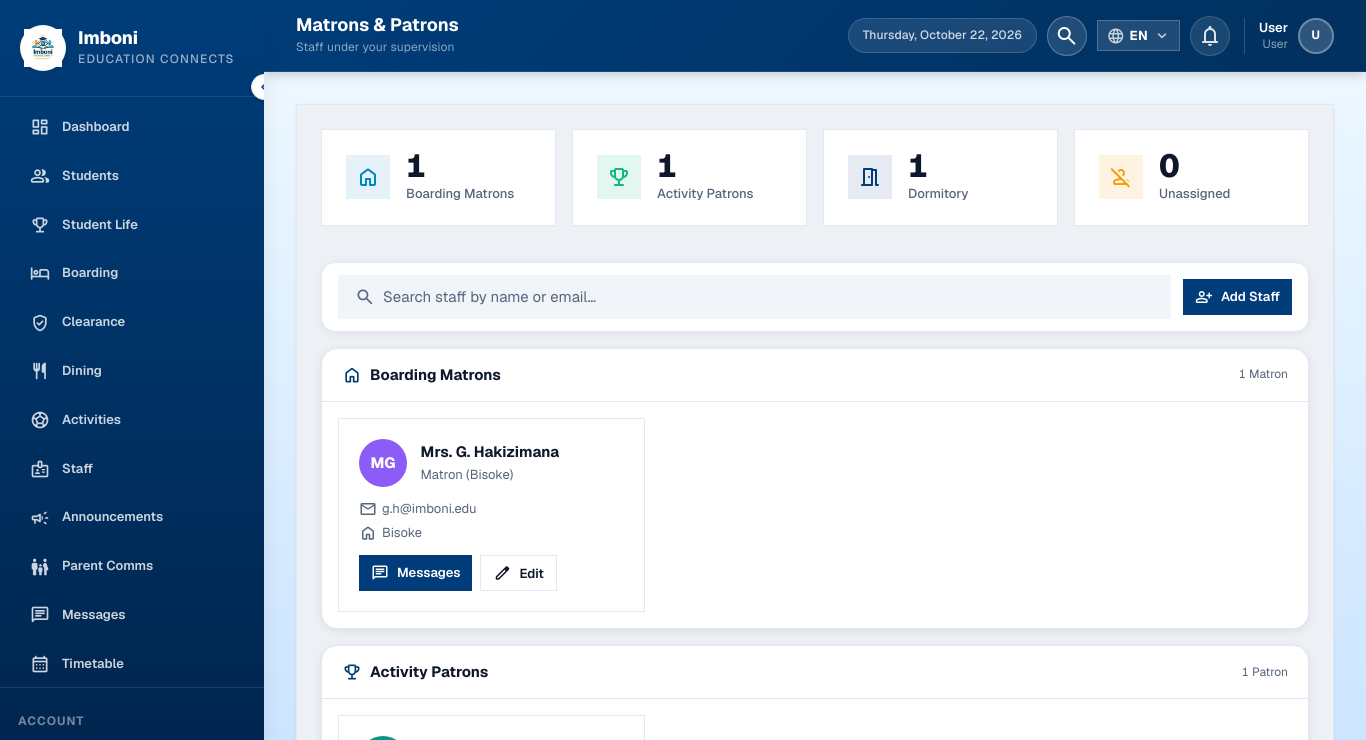
Test: DisStaff › offers to clear the search, not to hire, when a search matches nobody
Check: the text "Mrs. G. Hakizimana" is shown, box [421,440,559,464]
Type "zzz" into the search field with placeholder "Search staff by name or email…". click: [768, 297]
box: [383,276,1154,318]
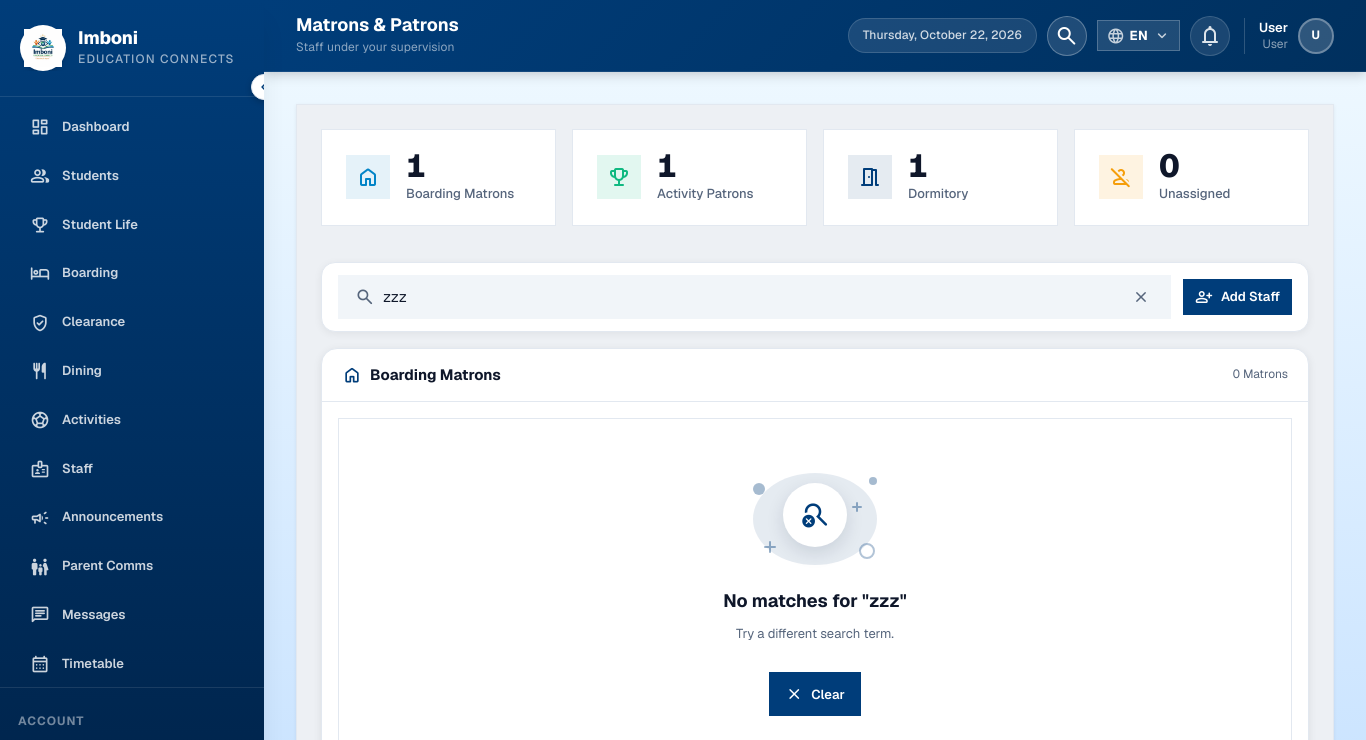
Check: the text "No matches for \"zzz\"" is shown 2 times
Check: the text "Add a matron" is gone
Click the button "Clear". click: [815, 694]
box: [769,672,861,716]
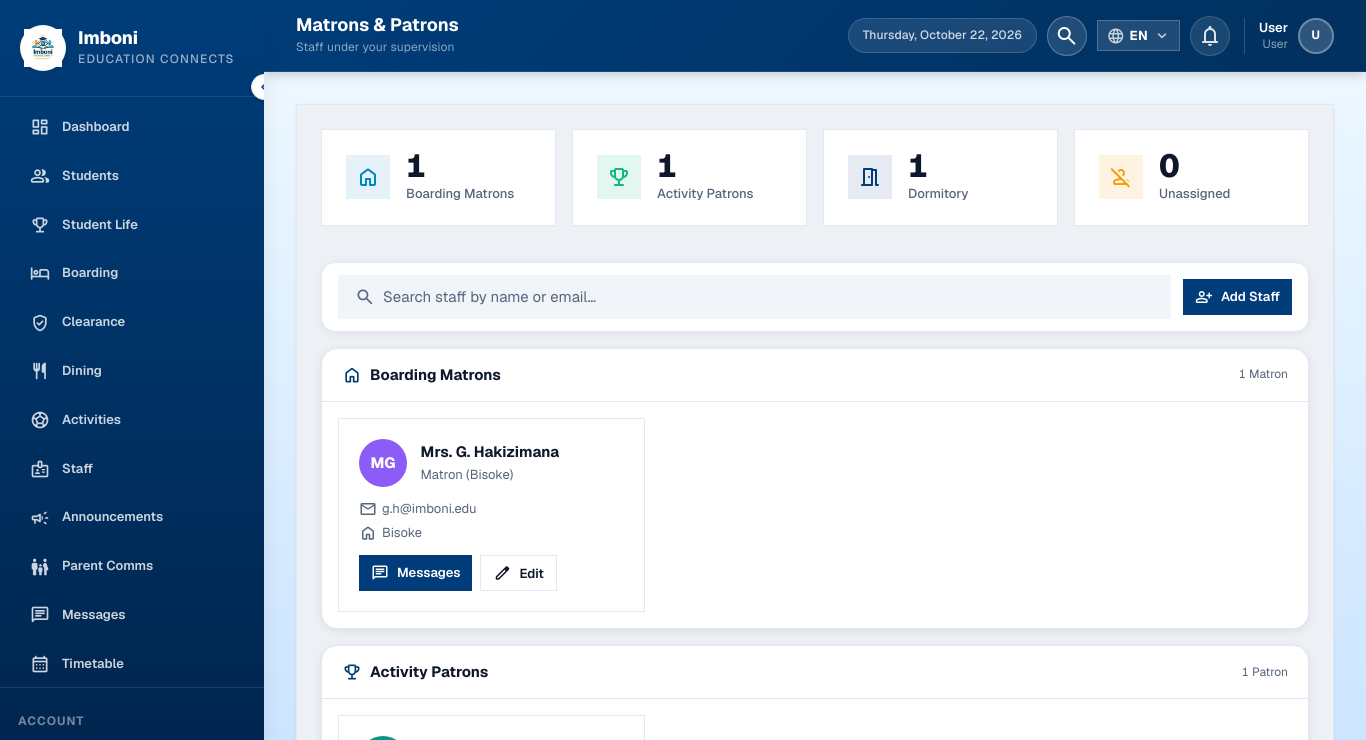
Check: the text "Mrs. G. Hakizimana" is shown, box [421,440,559,464]
